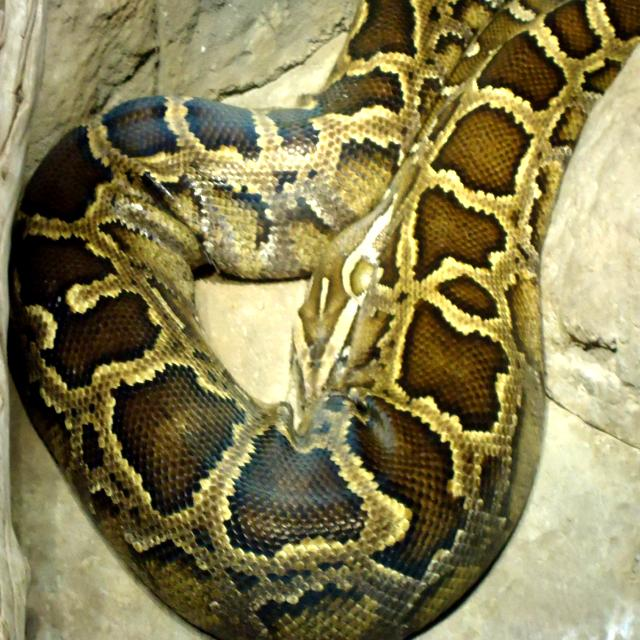Python bivittatus: (10, 0, 639, 639)
snake: (10, 0, 639, 639)
